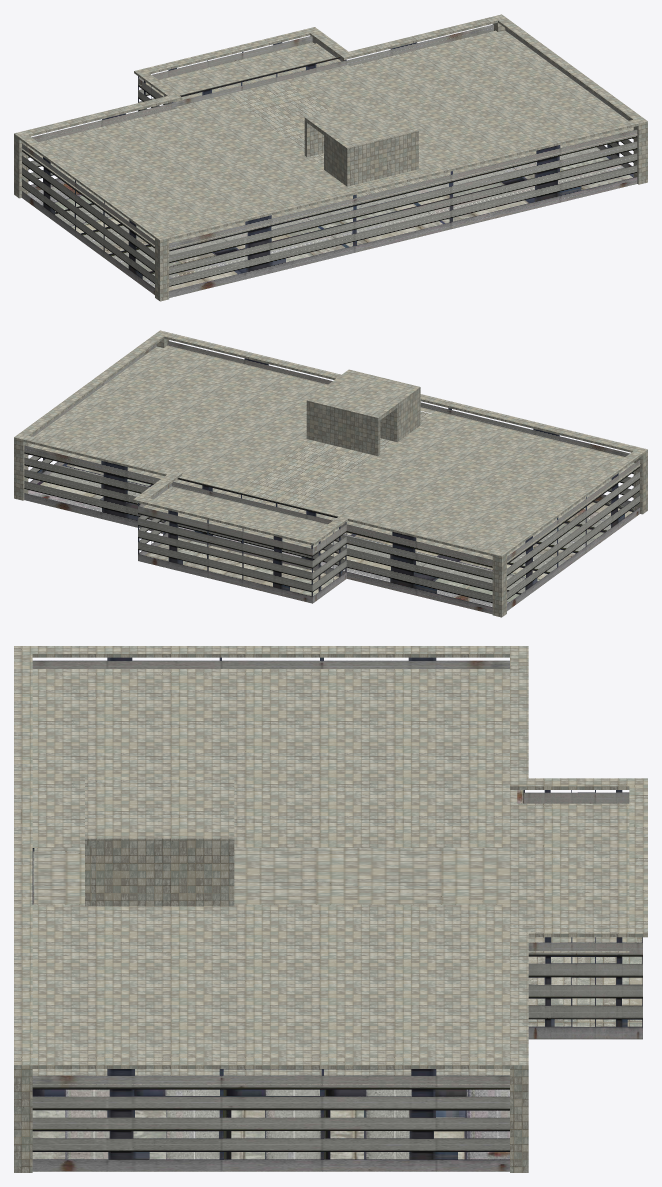
Rendered from BagSS05top_0.fbx.
3 renders of one model, top to bottom at view 1: azimuth 30°, elevation 25°; view 2: azimuth 150°, elevation 25°; view 3: azimuth 270°, elevation 25°, orthographic. The views are drawn at different scales.
Parts seen in each view (by area): view 1: topRoof0, topBoxA0, topShed0, topRoofB0, topBoxB0; view 2: topRoof0, topBoxA0, topBoxB0, topShed0, topRoofB0; view 3: topRoof0, topBoxA0, topShed0, topBoxB0, topRoofB0.
Boxes of the visible parts, bbox=[...] form: topRoof0: bbox=[14, 14, 647, 301]; topBoxA0: bbox=[22, 24, 637, 297]; topShed0: bbox=[304, 100, 418, 186]; topRoofB0: bbox=[42, 157, 632, 290]; topBoxB0: bbox=[138, 36, 346, 111]; topRoof0: bbox=[14, 330, 647, 617]; topBoxA0: bbox=[24, 341, 639, 614]; topBoxB0: bbox=[138, 477, 346, 603]; topShed0: bbox=[306, 369, 420, 456]; topRoofB0: bbox=[40, 464, 632, 601]; topRoof0: bbox=[14, 646, 647, 1172]; topBoxA0: bbox=[32, 657, 523, 1171]; topShed0: bbox=[85, 777, 234, 906]; topBoxB0: bbox=[524, 790, 642, 1039]; topRoofB0: bbox=[32, 851, 642, 1159].
Bounding box in the file's own units: 42.55 × 7.36 × 27.2.
